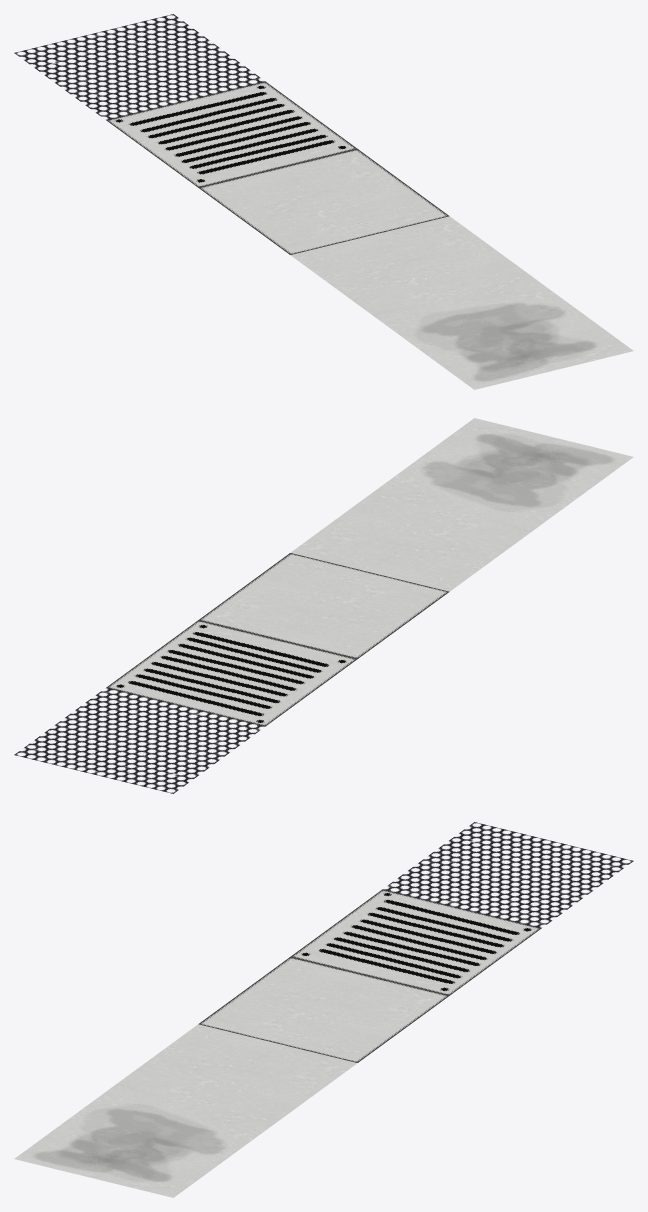
Rendered from labfloors1.glb.
The picture shows the model from 3 angles, top to bottom: view 1: azimuth 30°, elevation 25°; view 2: azimuth 150°, elevation 25°; view 3: azimuth 330°, elevation 25°; orthographic projection.
Visible parts, largest first — view 1: tile1-col, tile1.003-col, tile1.007-col, tile1.002-col, Plane-col; view 2: tile1-col, tile1.003-col, tile1.007-col, tile1.002-col, Plane-col; view 3: tile1-col, tile1.003-col, tile1.007-col, tile1.002-col, Plane-col.
Part boxes in pixels (x1=…): tile1-col: x1=290, y1=216, x2=541, y2=322; tile1.003-col: x1=106, y1=81, x2=357, y2=187; tile1.007-col: x1=382, y1=283, x2=633, y2=389; tile1.002-col: x1=198, y1=149, x2=449, y2=254; Plane-col: x1=14, y1=14, x2=264, y2=119; tile1-col: x1=290, y1=485, x2=541, y2=591; tile1.003-col: x1=106, y1=620, x2=357, y2=726; tile1.007-col: x1=382, y1=418, x2=633, y2=524; tile1.002-col: x1=198, y1=553, x2=449, y2=658; Plane-col: x1=14, y1=688, x2=264, y2=793; tile1-col: x1=106, y1=1024, x2=357, y2=1130; tile1.003-col: x1=290, y1=889, x2=541, y2=995; tile1.007-col: x1=14, y1=1091, x2=265, y2=1197; tile1.002-col: x1=198, y1=957, x2=449, y2=1062; Plane-col: x1=383, y1=822, x2=633, y2=927.
Size of the model in its own units: 1 by 0 by 5.
5 materials, 5 textured.
